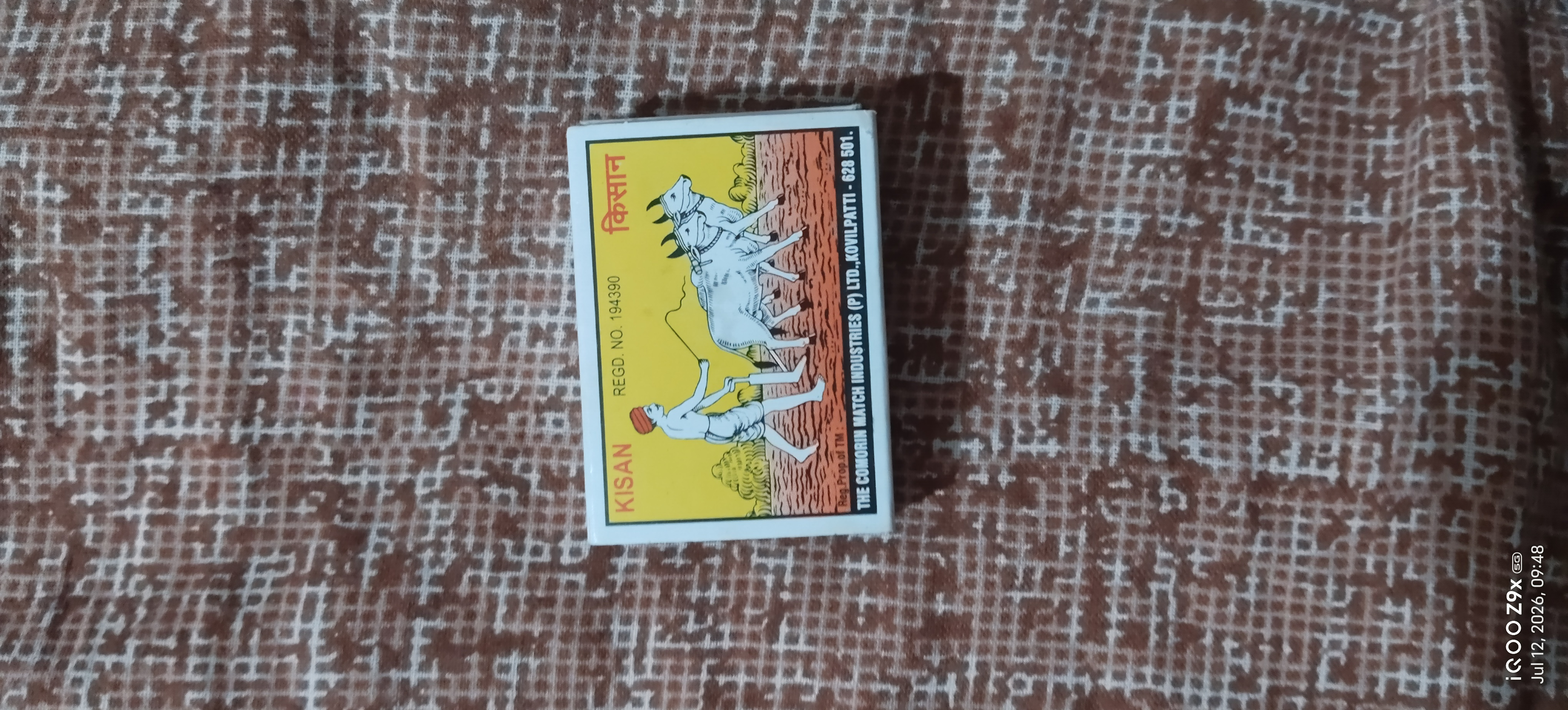matchbox: (531, 97, 912, 564)
